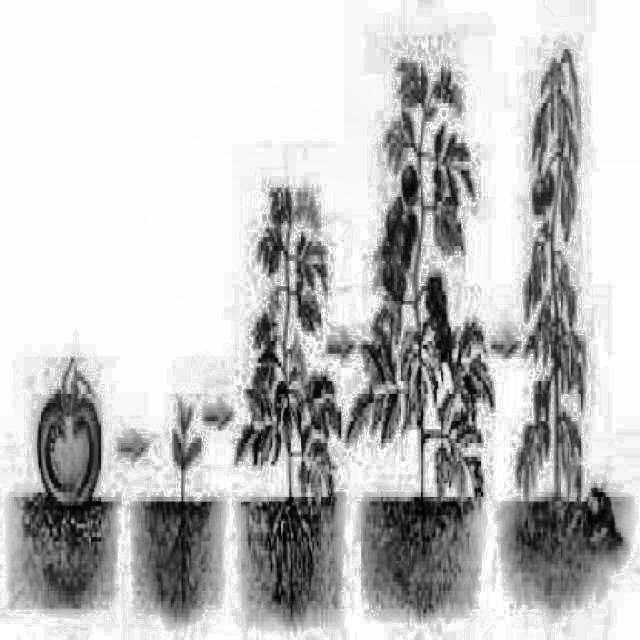plants: (348, 40, 492, 502), (508, 36, 594, 502), (233, 169, 344, 497), (153, 384, 204, 498)
